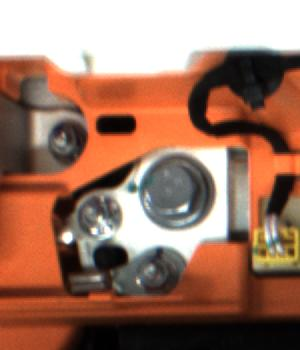nut_b: (135, 148, 215, 227)
